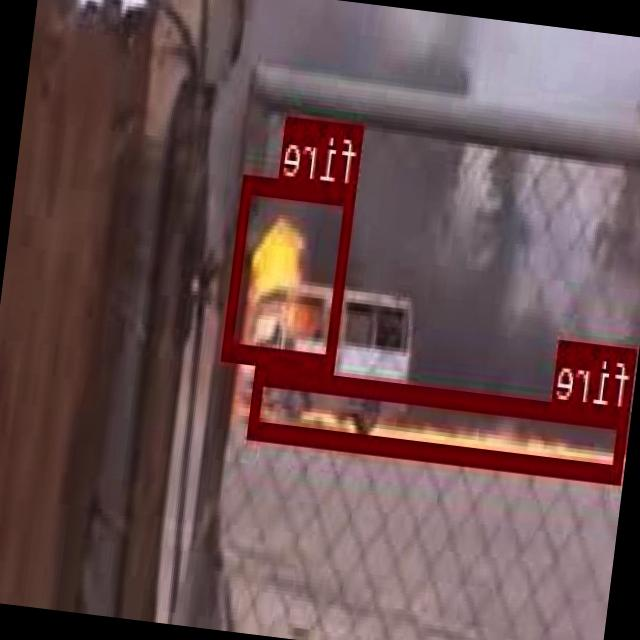fire: (250, 364, 630, 478), (224, 174, 358, 367)
